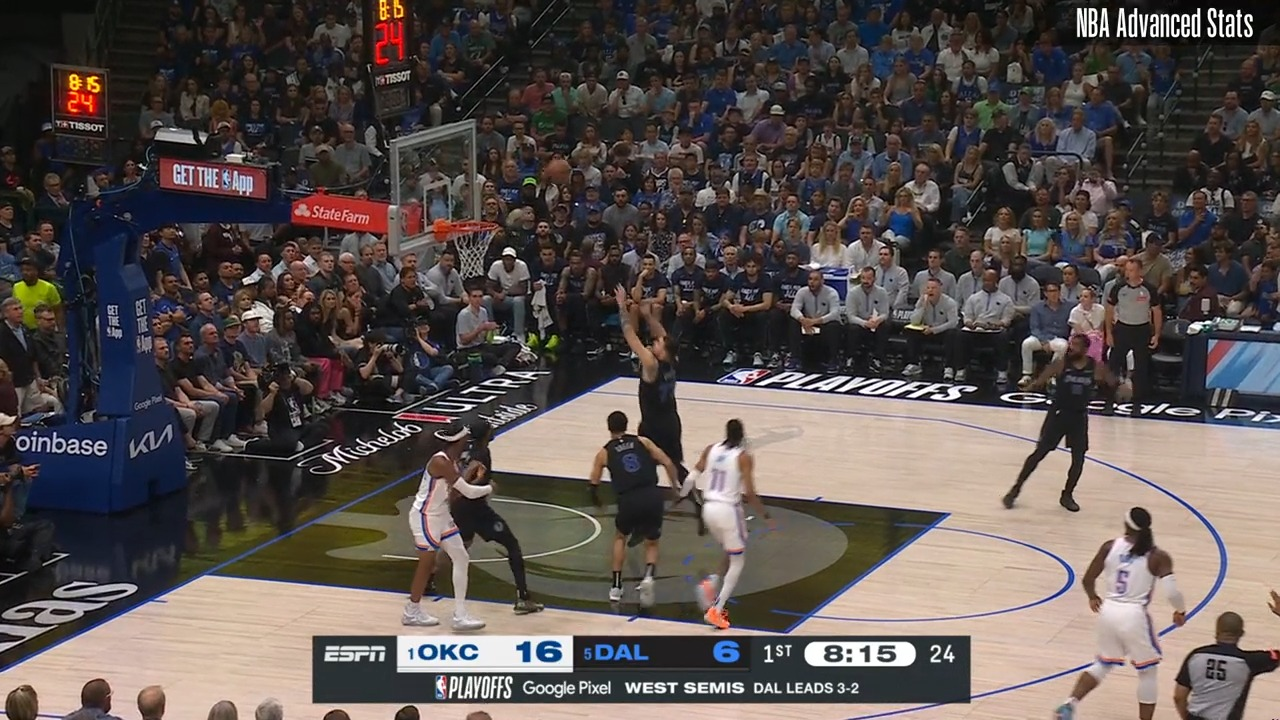basketball: (544, 158, 570, 185)
